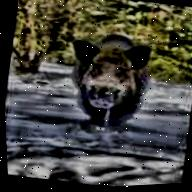boar: (49, 21, 164, 148)
